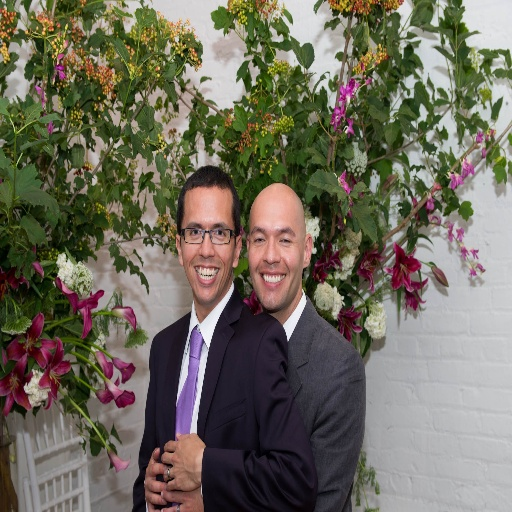hand: (150, 437, 208, 494), (143, 445, 174, 511), (163, 482, 202, 511)
